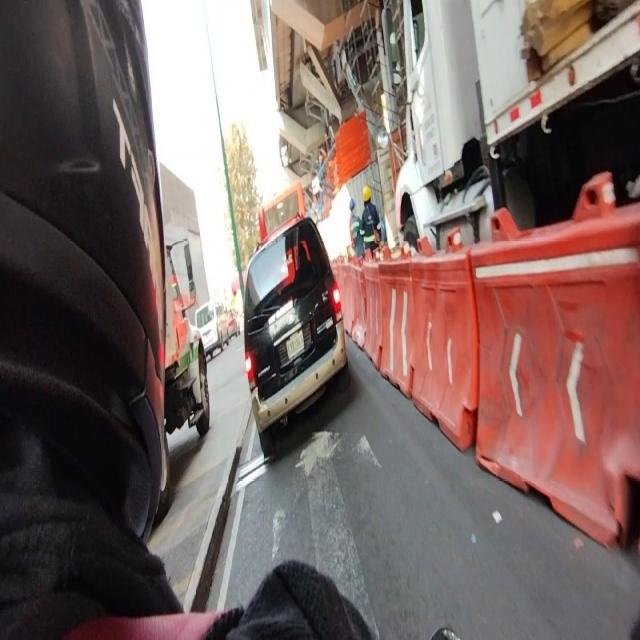adult: (361, 187, 380, 250)
